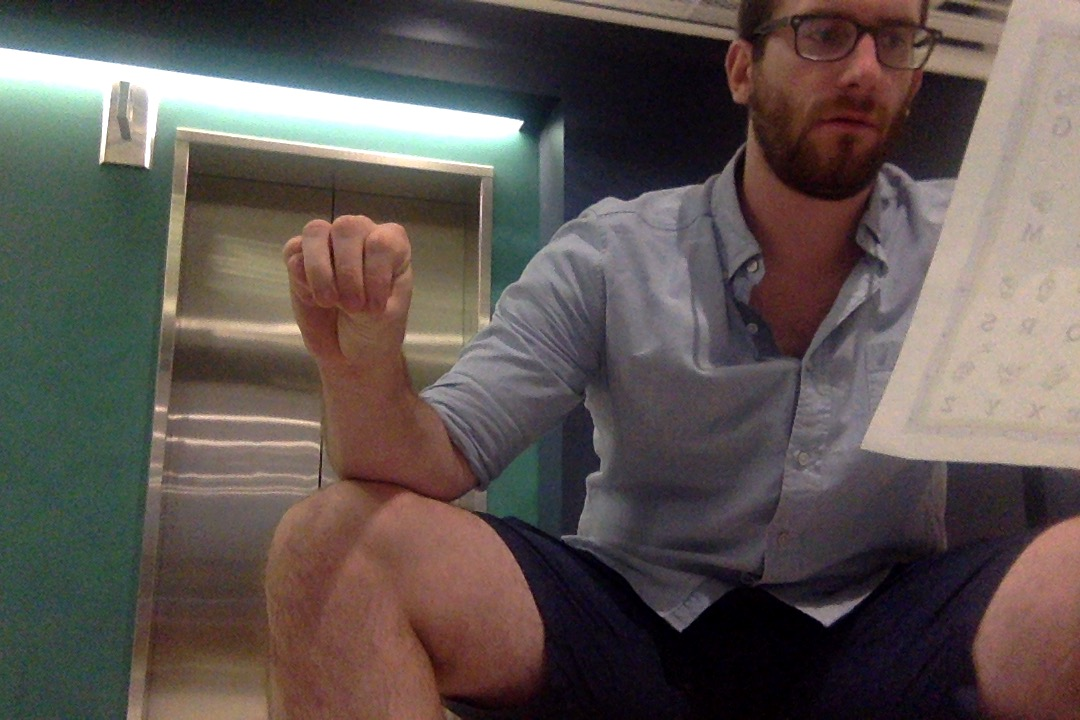m: (278, 209, 416, 370)
